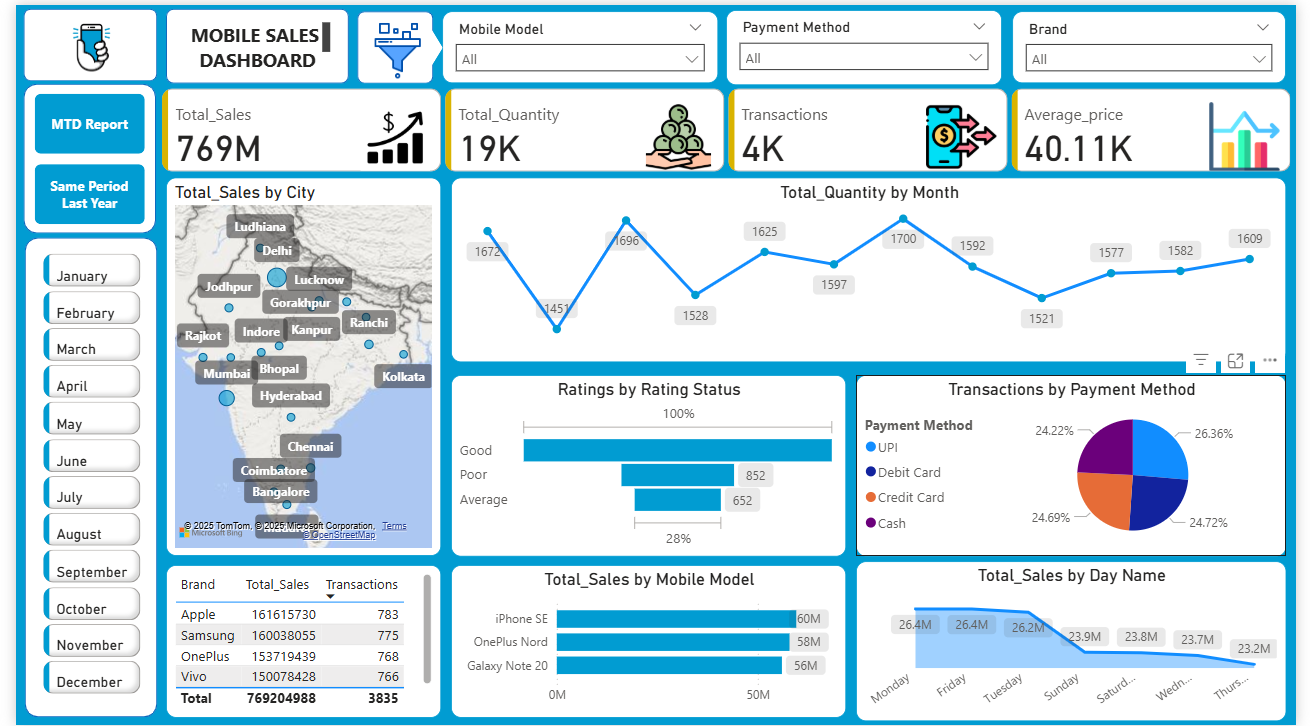

The page's visual inventory and layout, read from the dashboard file:
{"tool":"powerbi","page":{"name":"Dashboard","canvas":[1280,720],"ordinal":0},"visuals":[{"type":"shape","box":[7.4,3.7,133.7,72.4],"z":0},{"type":"image","box":[18.4,6.1,114.1,72.4],"z":1000},{"type":"shape","box":[7.4,78.5,132.5,149.7],"z":2000},{"type":"shape","box":[8.6,231.9,132.5,479.8],"z":3000},{"type":"advancedSlicerVisual","fields":{"Values":["Custom_Calendar.Date.Variation.Date Hierarchy.Month"]},"box":[22.1,244.2,108,456.4],"z":4000},{"type":"cardVisual","fields":{"Data":["Sales_Data.Total_Sales","Sales_Data.Quantity","Sales_Data.Transactions","Sales_Data.Avg_price"]},"box":[141.1,78.5,1138.7,93.3],"z":5000},{"type":"slicer","fields":{"Values":["Sales_Data.Mobile Model"]},"box":[425.8,6.1,276.1,72.4],"z":6000},{"type":"slicer","fields":{"Values":["Sales_Data.Payment Method"]},"box":[710.4,4.9,276.1,74.8],"z":7000},{"type":"slicer","fields":{"Values":["Sales_Data.Brand"]},"box":[996.3,6.1,273.6,72.4],"z":8000},{"type":"shape","box":[341.1,6.1,76.1,72.4],"z":9000},{"type":"shape","box":[396.3,17.2,30.7,50.3],"z":10000},{"type":"image","box":[341.1,12.3,81,66.3],"z":11000},{"type":"shape","box":[149.7,3.7,182.8,74.8],"z":12000},{"type":"textbox","box":[165.6,12.3,153.4,60.1],"z":13000},{"type":"map","fields":{"Category":["Sales_Data.City"],"Size":["Sales_Data.Total_Sales"]},"box":[150,172.5,275,378.8],"z":14000},{"type":"lineChart","fields":{"Y":["Sales_Data.Total_Quantity"],"Category":["Custom_Calendar.Date.Variation.Date Hierarchy.Month"]},"box":[434.4,172.2,835.6,184.4],"z":15000},{"type":"funnel","title":"Ratings by Rating Status","fields":{"Category":["Sales_Data.Rating_Status"],"Y":["CountNonNull(Sales_Data.Customer Ratings)"]},"box":[435,370,395,181.2],"z":16000},{"type":"pieChart","fields":{"Y":["Sales_Data.Transactions"],"Category":["Sales_Data.Payment Method"]},"box":[840,370,430,181.2],"z":17000},{"type":"clusteredBarChart","fields":{"Y":["Sales_Data.Total_Sales"],"Category":["Sales_Data.Mobile Model"]},"box":[435,560,395,152.5],"z":18000},{"type":"areaChart","fields":{"Y":["Sales_Data.Total_Sales"],"Category":["Custom_Calendar.Day Name"]},"box":[840,560,430,153],"z":19000},{"type":"areaChart","fields":{"Y":["Sales_Data.Total_Sales"],"Category":["Custom_Calendar.Day Name"]},"box":[840,556.2,430,160],"z":20000},{"type":"tableEx","fields":{"Values":["Sales_Data.Brand","Sales_Data.Total_Sales","Sales_Data.Transactions"]},"box":[150,560,275,152.5],"z":21000},{"type":"pageNavigator","box":[18.8,88.8,110,130],"z":21001}]}

Visuals, with their boxes in screenshot pixels (x1, y1, x2, y2), scaled from the page's 1280x720 canvas onto the 1310x726 screenshot:
shape: l=8, t=4, r=144, b=77
image: l=19, t=6, r=136, b=79
shape: l=8, t=79, r=143, b=230
shape: l=9, t=234, r=144, b=718
advancedSlicerVisual - Custom_Calendar.Date.Variation.Date Hierarchy.Month: l=23, t=246, r=133, b=706
cardVisual - Sales_Data.Total_Sales x Sales_Data.Quantity: l=144, t=79, r=1309, b=173
slicer - Sales_Data.Mobile Model: l=436, t=6, r=718, b=79
slicer - Sales_Data.Payment Method: l=727, t=5, r=1010, b=80
slicer - Sales_Data.Brand: l=1020, t=6, r=1300, b=79
shape: l=349, t=6, r=427, b=79
shape: l=406, t=17, r=437, b=68
image: l=349, t=12, r=432, b=79
shape: l=153, t=4, r=340, b=79
textbox: l=169, t=12, r=326, b=73
map - Sales_Data.City x Sales_Data.Total_Sales: l=154, t=174, r=435, b=556
lineChart - Sales_Data.Total_Quantity x Custom_Calendar.Date.Variation.Date Hierarchy.Month: l=445, t=174, r=1300, b=360
"Ratings by Rating Status" funnel: l=445, t=373, r=849, b=556
pieChart - Sales_Data.Transactions x Sales_Data.Payment Method: l=860, t=373, r=1300, b=556
clusteredBarChart - Sales_Data.Total_Sales x Sales_Data.Mobile Model: l=445, t=565, r=849, b=718
areaChart - Sales_Data.Total_Sales x Custom_Calendar.Day Name: l=860, t=565, r=1300, b=719
areaChart - Sales_Data.Total_Sales x Custom_Calendar.Day Name: l=860, t=561, r=1300, b=722
tableEx - Sales_Data.Brand x Sales_Data.Total_Sales: l=154, t=565, r=435, b=718
pageNavigator: l=19, t=90, r=132, b=221
